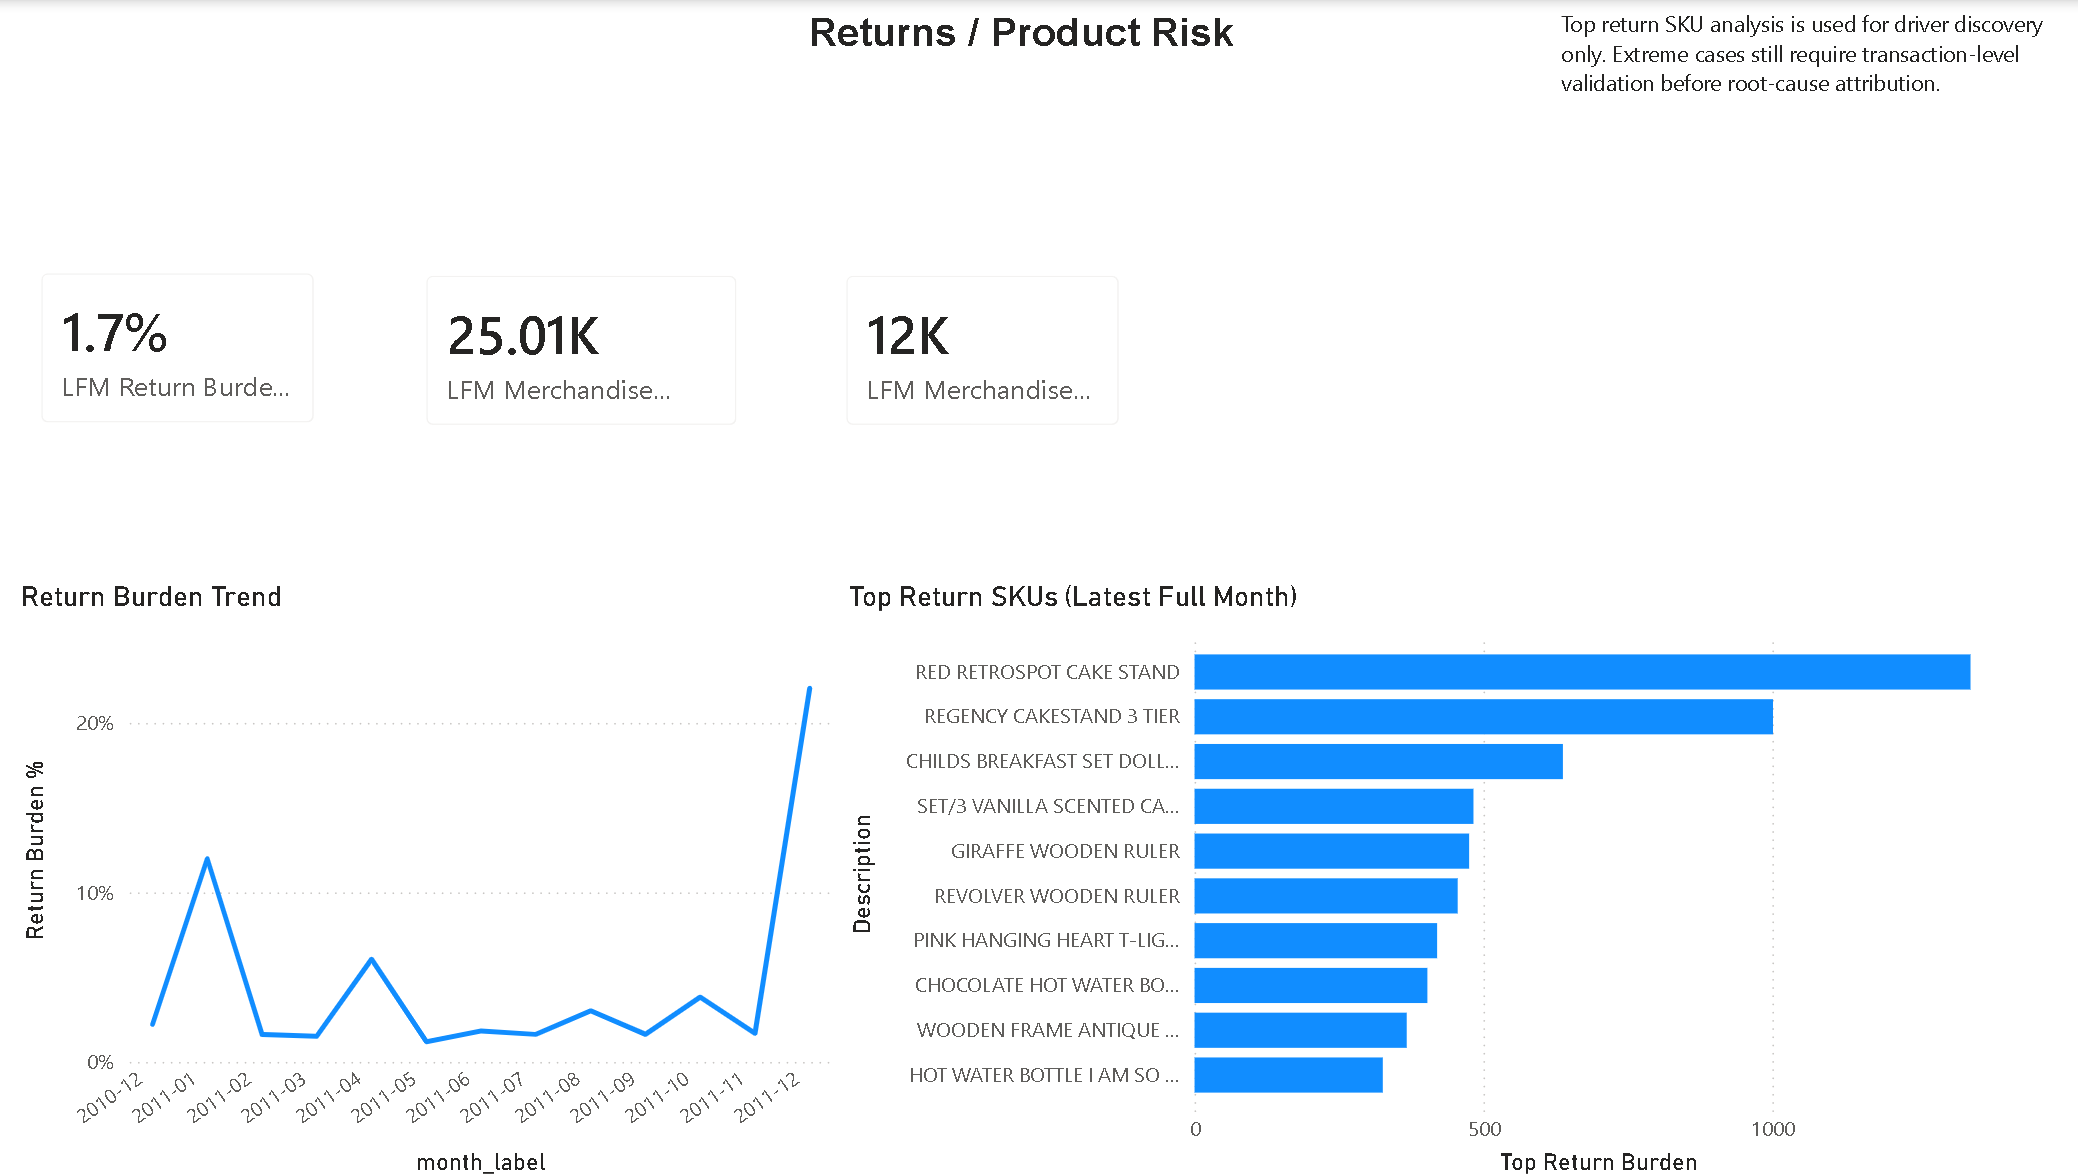

Layout of this report page (visuals, bound fields, positions):
{"tool":"powerbi","page":{"name":"Returns / Product Risk","canvas":[1280,720],"ordinal":2},"visuals":[{"type":"textbox","box":[498.3,0,281.7,43.3],"z":0},{"type":"cardVisual","fields":{"Data":["dim_month.LFM Return Burden %"]},"box":[18,149.3,200,125],"z":1000},{"type":"cardVisual","fields":{"Data":["kpi_monthly.LFM Merchandise Return Units"]},"box":[508,151,200,125],"z":2000},{"type":"cardVisual","fields":{"Data":["kpi_monthly.LFM Merchandise Return Value"]},"box":[253.3,150,223.3,125],"z":3000},{"type":"lineChart","title":"Return Burden Trend","fields":{"Category":["dim_month.month_label"],"Y":["dim_month.Return Burden %"]},"box":[18.3,353.3,503.3,366.7],"z":4000},{"type":"clusteredBarChart","title":"Top Return SKUs (Latest Full Month)","fields":{"Category":["top_return_skus.Description"],"Y":["top_return_skus.Top Return Burden"]},"box":[521.7,353.3,725,366.7],"z":5000},{"type":"textbox","box":[956.7,0,323.3,65],"z":6000}]}

Visuals, with their boxes in screenshot pixels (x1, y1, x2, y2), scaled from the page's 1280x720 canvas onto the 2078x1176 screenshot:
textbox: (x1=809, y1=0, x2=1266, y2=71)
cardVisual - dim_month.LFM Return Burden %: (x1=29, y1=244, x2=354, y2=448)
cardVisual - kpi_monthly.LFM Merchandise Return Units: (x1=825, y1=247, x2=1149, y2=451)
cardVisual - kpi_monthly.LFM Merchandise Return Value: (x1=411, y1=245, x2=774, y2=449)
"Return Burden Trend" lineChart: (x1=30, y1=577, x2=847, y2=1175)
"Top Return SKUs (Latest Full Month)" clusteredBarChart: (x1=847, y1=577, x2=2024, y2=1175)
textbox: (x1=1553, y1=0, x2=2077, y2=106)
